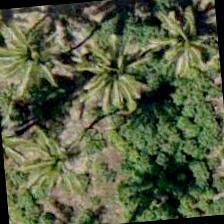Kelapa_Sawit: (61, 31, 159, 129)
